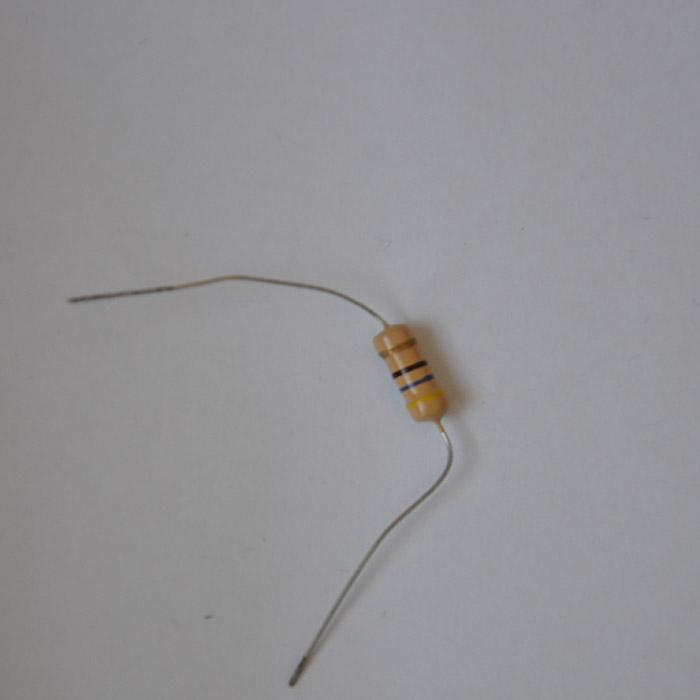resistor: (372, 322, 448, 425)
